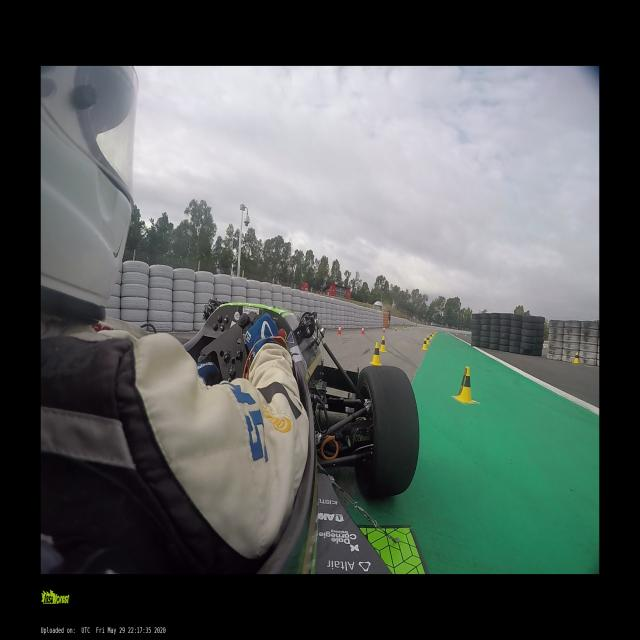orange_cone: (337, 325, 341, 335), (360, 327, 365, 335), (382, 327, 386, 332), (395, 327, 397, 332)
yellow_cone: (452, 367, 477, 402), (371, 343, 382, 366), (378, 336, 387, 352), (573, 352, 580, 364), (422, 339, 426, 350), (426, 335, 430, 345), (430, 333, 432, 340), (432, 330, 435, 334), (432, 332, 434, 336), (433, 330, 435, 334), (436, 330, 437, 333)
